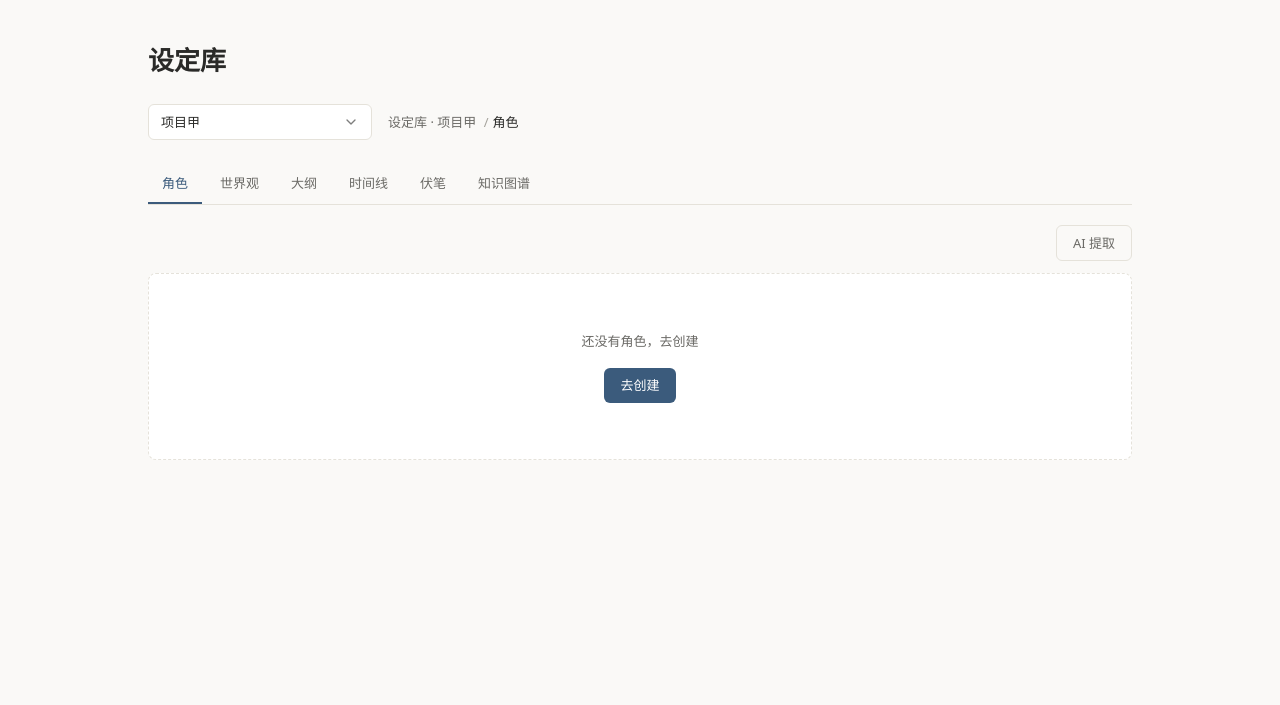
Test: #1529-A 实体多选：默认全选 + 未勾选统一灰显（不摘除） › N19① 取消某实体 → **该节点灰显、其余正常、画布不摘除**（第 1 页首行）
Step 1. Click the tab "知识图谱" → {"x": 504, "y": 184}, box [464,164,544,204]
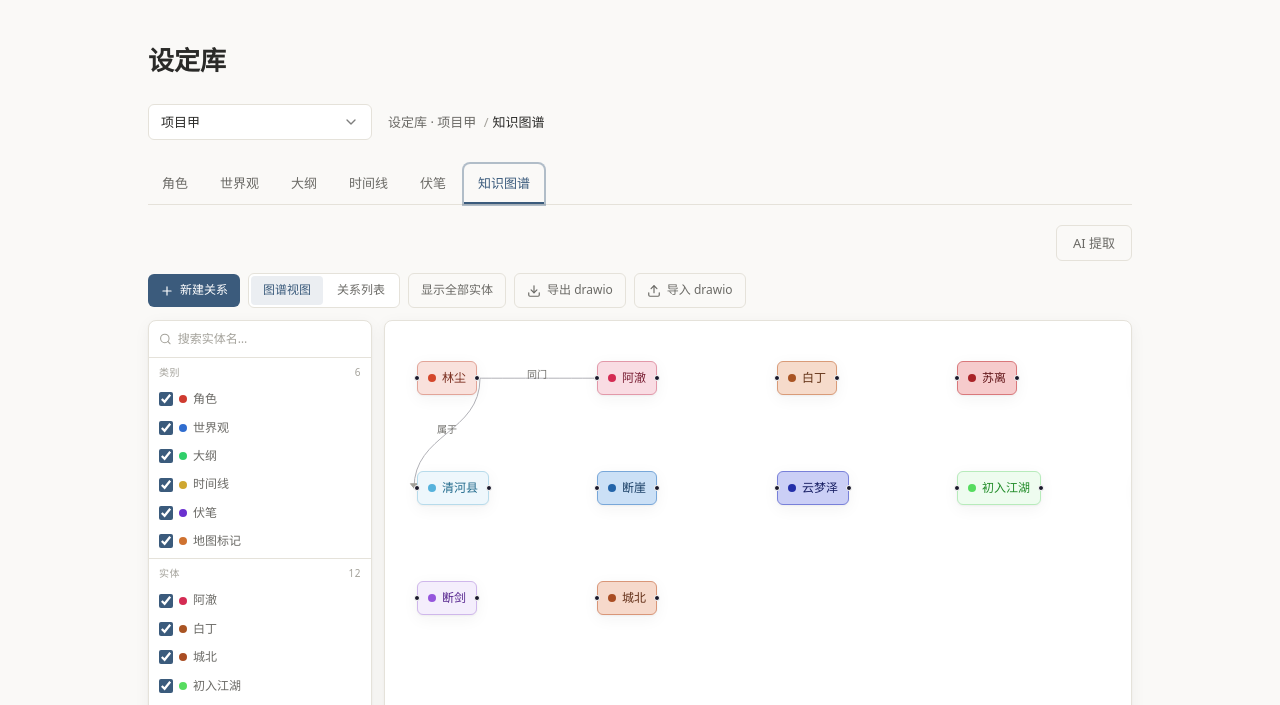
Now the element with test id "library-kg-node-character-c1" is shown, box [417,361,477,395]
Step 2. Click the label "阿澈" → {"x": 188, "y": 600}, box [159,591,217,608]
(page scrolled)
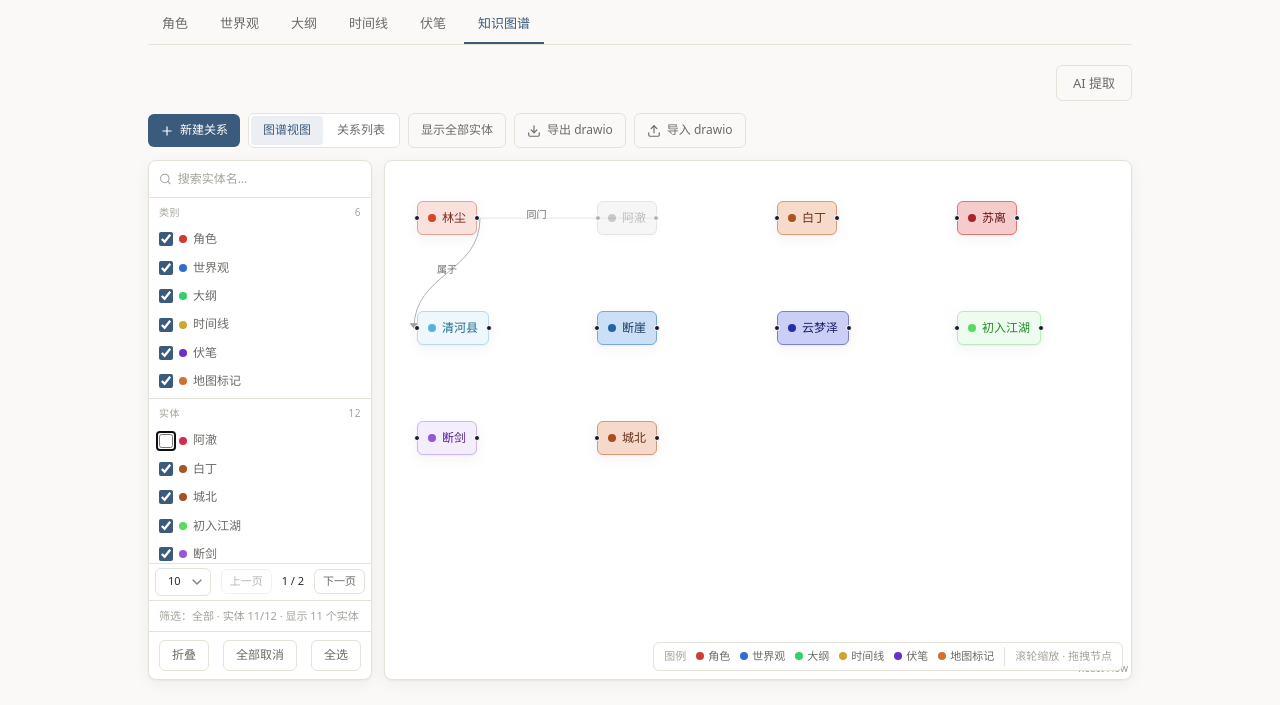
Now the element with test id "library-kg-node-character-c1" is shown, box [417,201,477,235]
Now the element with test id "library-kg-node-world-w1" is shown, box [417,311,489,345]
Now the text with test id "library-kg-filter-summary" shows "显示 11 个实体", box [159,608,359,623]
